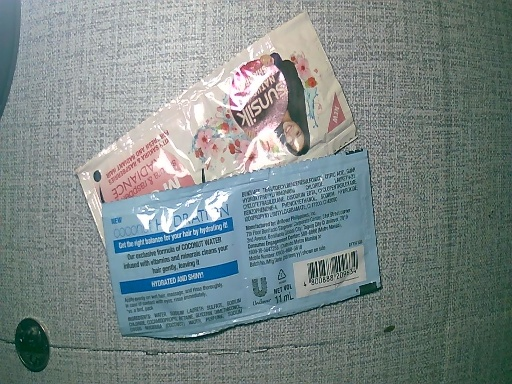metal: (17, 316, 48, 372)
plastic: (56, 11, 354, 199), (109, 150, 382, 344)
